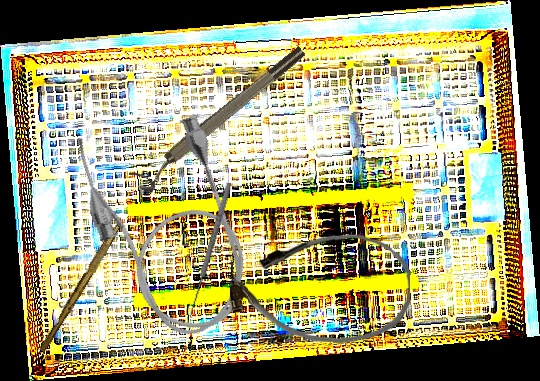Cannula: (65, 99, 269, 354), (228, 229, 412, 346)
Fixation Ring: (128, 42, 314, 197)
Hook Surgical: (185, 181, 239, 321)
Scalpel Handle: (38, 220, 122, 355)
